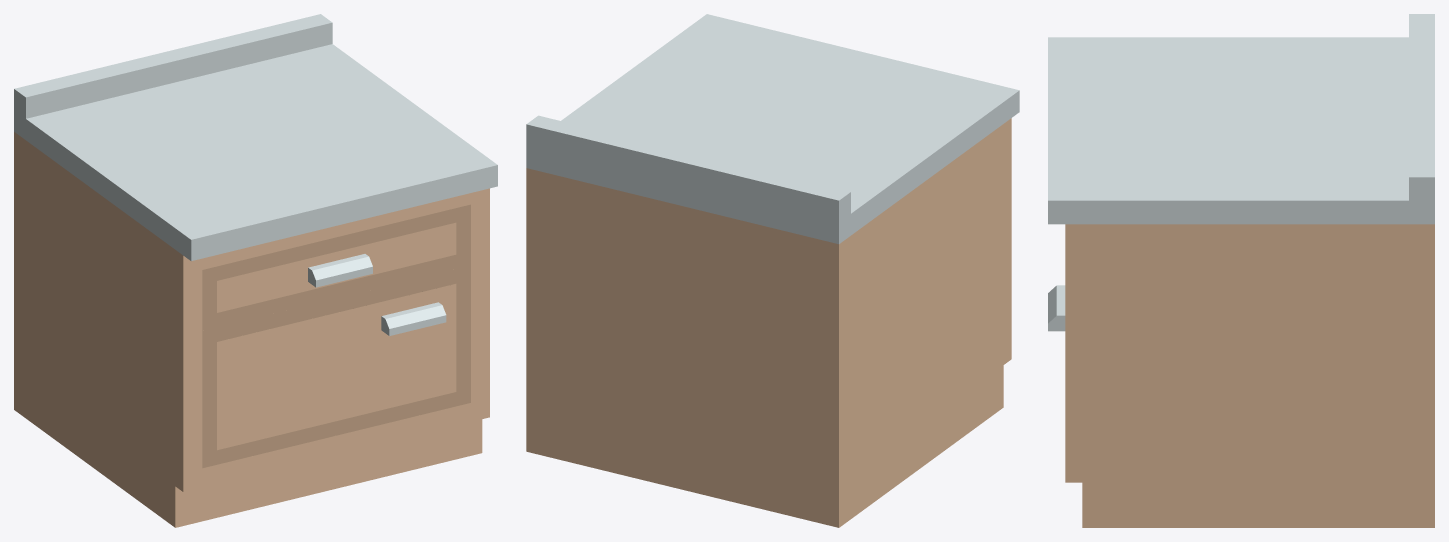
The model's file is kn-kitchen-cabinet-drawer.glb.
3 renders of one model, left to right at view 1: azimuth 30°, elevation 25°; view 2: azimuth 150°, elevation 25°; view 3: azimuth 270°, elevation 25°, orthographic. The views are drawn at different scales.
Parts seen in each view (by area): view 1: kitchenCabinetDrawer(Clone), door; view 2: kitchenCabinetDrawer(Clone); view 3: kitchenCabinetDrawer(Clone).
Boxes of the visible parts, left/top/right/bottom form: kitchenCabinetDrawer(Clone): left=14, top=14, right=497, bottom=527; door: left=202, top=204, right=470, bottom=468; kitchenCabinetDrawer(Clone): left=526, top=14, right=1019, bottom=527; kitchenCabinetDrawer(Clone): left=1048, top=14, right=1434, bottom=527.
Size of the model in its own units: 1 by 1 by 1.
